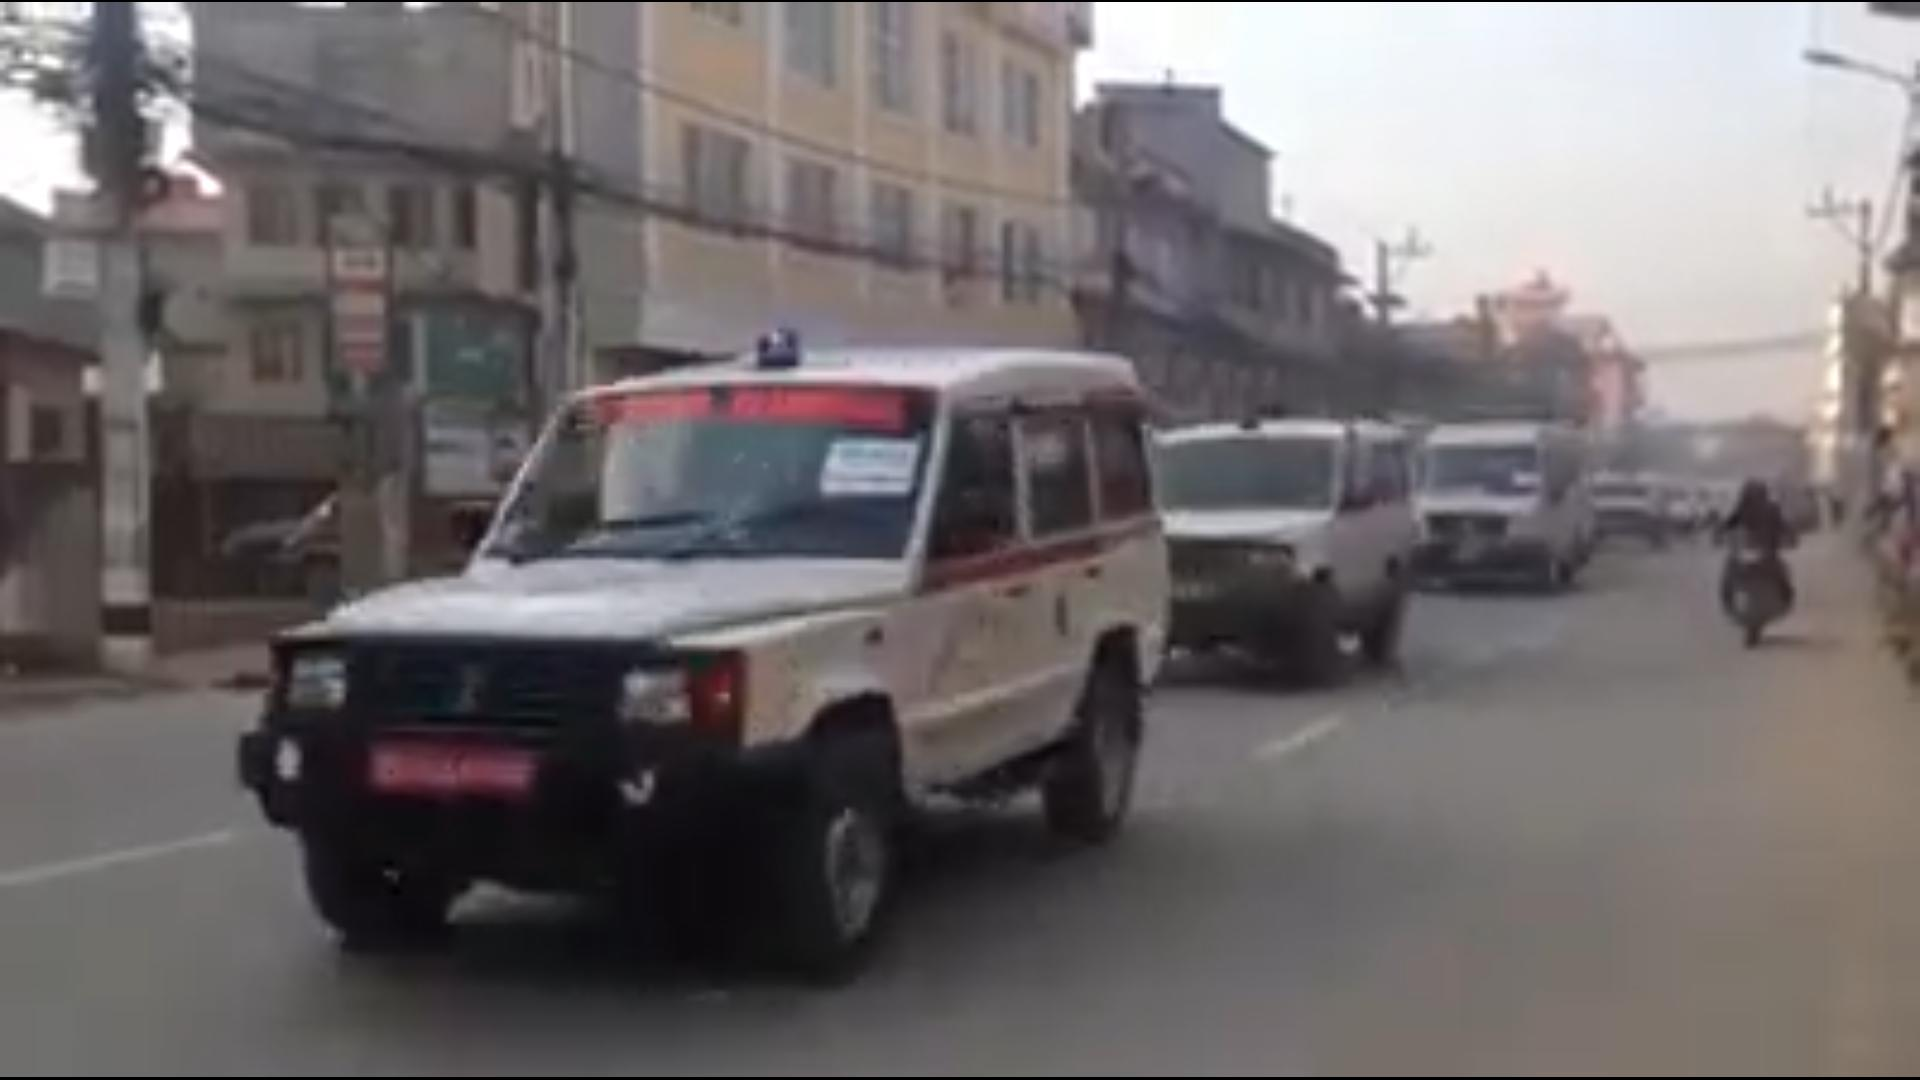ambulance: (222, 290, 1175, 996)
bike: (1138, 922, 1164, 949)
